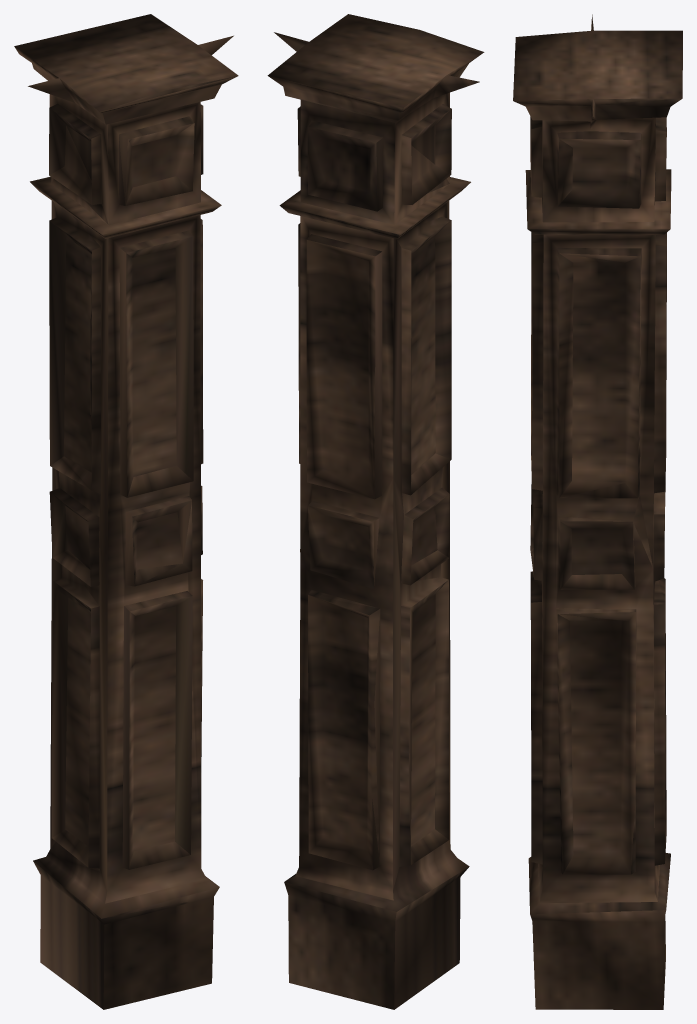
Rendered from Pillar.fbx.
The picture shows the model from 3 angles, left to right: view 1: azimuth 30°, elevation 25°; view 2: azimuth 150°, elevation 25°; view 3: azimuth 270°, elevation 25°; orthographic projection.
Visible parts, largest first — view 1: vl3ubjqdw_LOD0_TIER3_000; view 2: vl3ubjqdw_LOD0_TIER3_000; view 3: vl3ubjqdw_LOD0_TIER3_000.
Boxes of the visible parts, x1,y1,x2,y2 form: vl3ubjqdw_LOD0_TIER3_000: [14, 14, 238, 1009]; vl3ubjqdw_LOD0_TIER3_000: [267, 14, 484, 1009]; vl3ubjqdw_LOD0_TIER3_000: [513, 14, 682, 1009].
Bounding box in the file's own units: 190 × 800 × 134.
